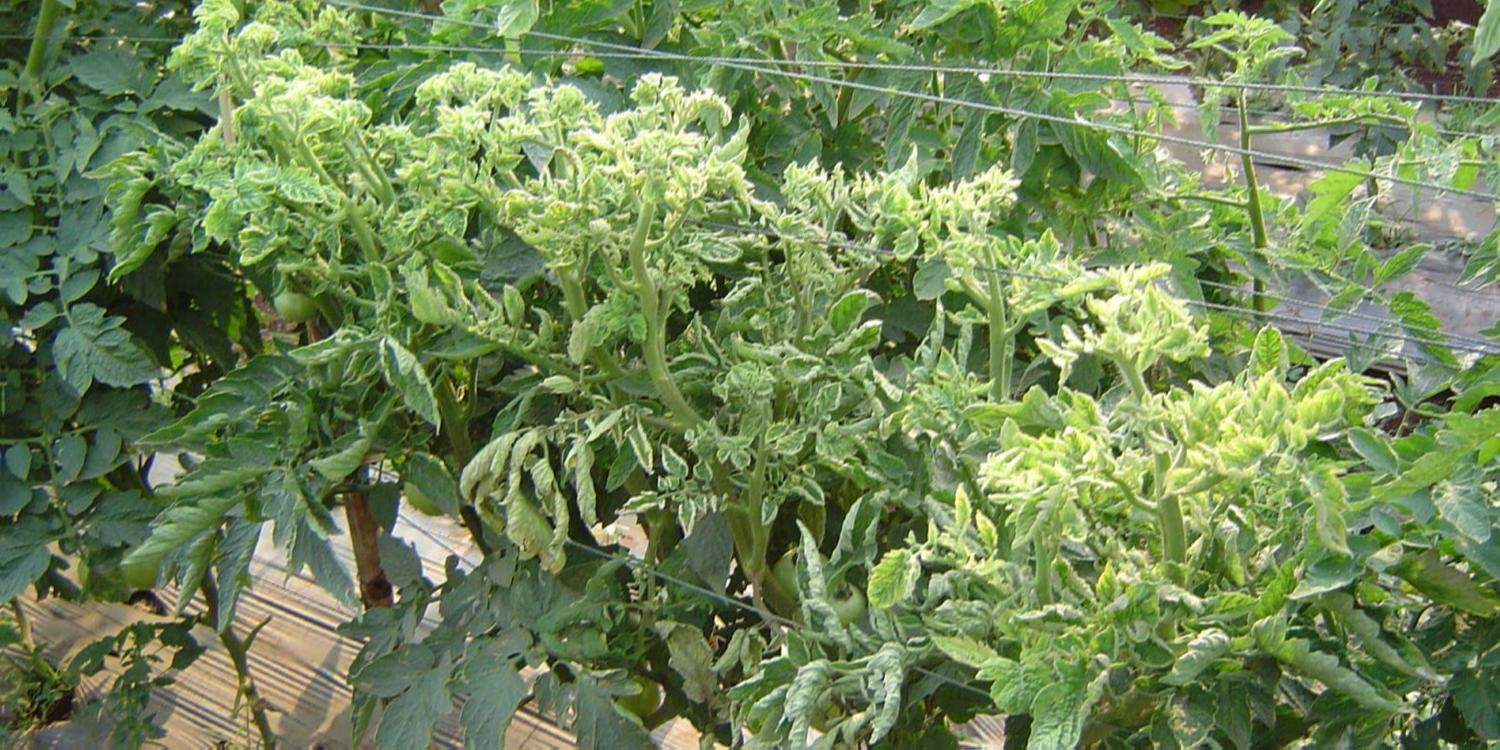Tomato leaf yellow virus: (1017, 660, 1110, 750), (557, 280, 654, 360), (374, 339, 440, 431), (862, 545, 916, 606), (1010, 441, 1054, 508), (816, 292, 872, 343), (1288, 379, 1334, 438), (225, 231, 301, 266), (1228, 386, 1261, 465), (646, 443, 686, 508), (768, 353, 826, 387), (1079, 432, 1114, 482), (768, 427, 813, 464), (789, 479, 823, 510), (760, 481, 775, 546), (727, 445, 749, 477), (696, 458, 715, 494), (1163, 405, 1185, 432)
